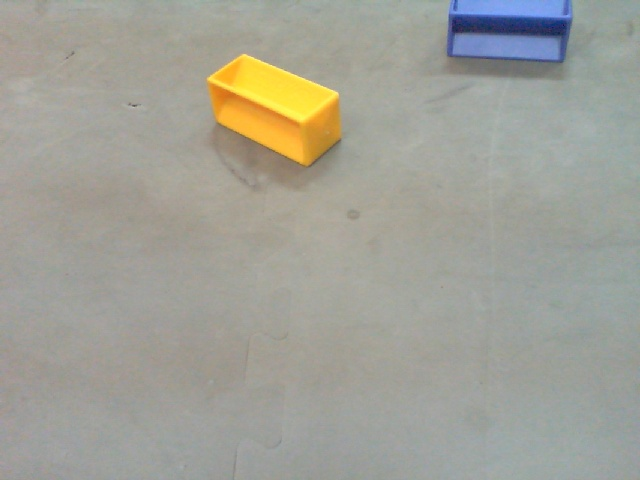BlueSample: (443, 1, 572, 63)
YellowSample: (205, 52, 343, 167)
